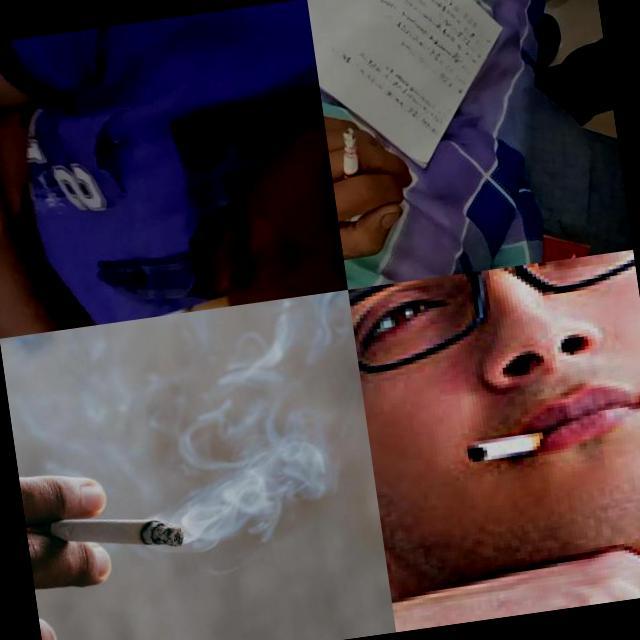smoke: (26, 500, 186, 570), (65, 293, 232, 329), (466, 431, 549, 464), (337, 127, 362, 190)
